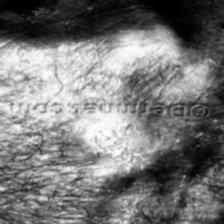Potentially Malignant Skin Tumors: (68, 118, 152, 166)
